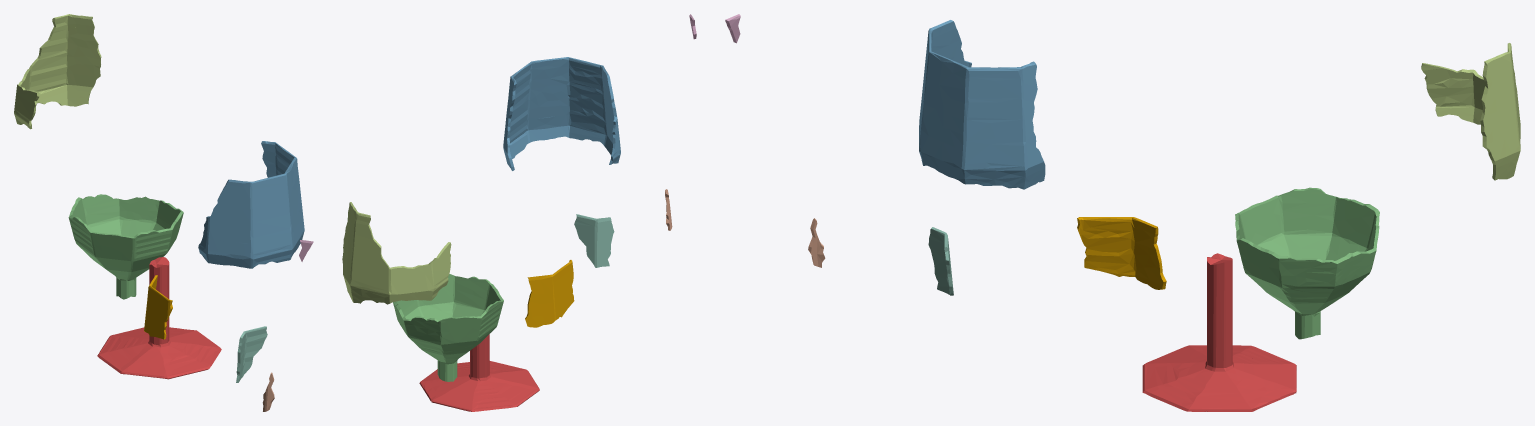
File: fractured_16_8pcs_transformed.glb
3 views of the same model, side by side, from view 1: azimuth 30°, elevation 25°; view 2: azimuth 150°, elevation 25°; view 3: azimuth 270°, elevation 25° (orthographic). The views are drawn at different scales.
Visible parts, largest first — view 1: piece_2.obj, piece_3.obj, piece_5.obj, piece_1.obj, piece_0.obj, piece_4.obj, piece_7.obj; view 2: piece_2.obj, piece_3.obj, piece_5.obj, piece_1.obj, piece_0.obj, piece_4.obj; view 3: piece_2.obj, piece_3.obj, piece_1.obj, piece_5.obj, piece_0.obj, piece_4.obj.
Boxes of the visible parts, x1,y1,x2,y2 form: piece_2.obj: [198, 141, 304, 268]; piece_3.obj: [68, 194, 183, 299]; piece_5.obj: [14, 14, 101, 129]; piece_1.obj: [97, 257, 221, 379]; piece_0.obj: [144, 275, 172, 339]; piece_4.obj: [236, 326, 267, 382]; piece_7.obj: [262, 372, 274, 411]; piece_2.obj: [503, 57, 620, 170]; piece_3.obj: [393, 274, 503, 381]; piece_5.obj: [342, 202, 451, 304]; piece_1.obj: [419, 334, 539, 411]; piece_0.obj: [525, 260, 574, 327]; piece_4.obj: [574, 214, 614, 267]; piece_2.obj: [919, 20, 1045, 189]; piece_3.obj: [1235, 187, 1379, 339]; piece_1.obj: [1142, 253, 1296, 411]; piece_5.obj: [1421, 43, 1520, 180]; piece_0.obj: [1077, 217, 1166, 289]; piece_4.obj: [928, 227, 953, 295].
Size of the model in its own units: 0.4104 by 1 by 2.12.
